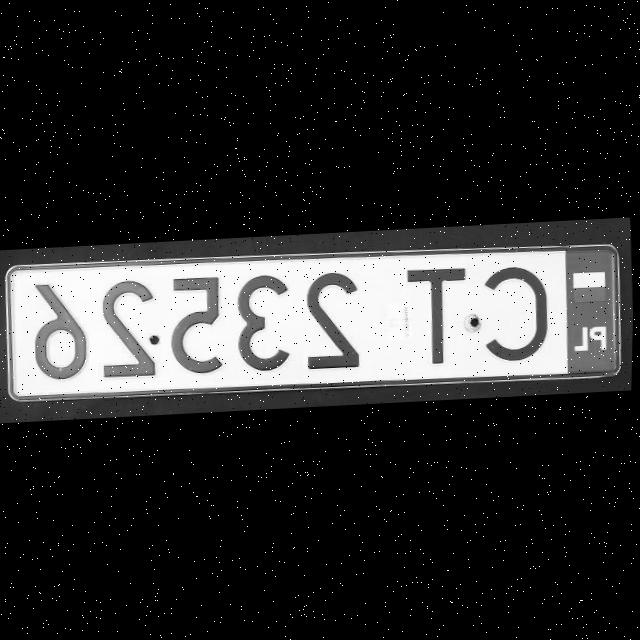license-plates: (5, 247, 620, 402)
